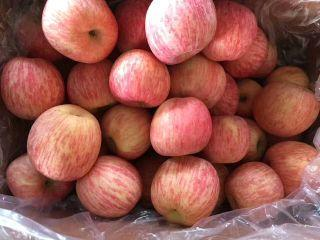apple: (25, 104, 102, 181), (148, 157, 220, 227), (40, 1, 120, 63), (142, 1, 219, 64), (75, 155, 145, 219), (1, 56, 65, 119), (150, 96, 213, 157), (251, 80, 319, 136), (107, 50, 170, 107), (5, 154, 74, 206), (223, 162, 283, 216), (265, 138, 320, 195), (206, 2, 257, 61), (173, 57, 227, 110), (64, 61, 118, 109), (101, 107, 152, 157), (203, 114, 249, 163)
